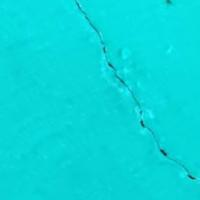crack: (74, 0, 198, 190)
